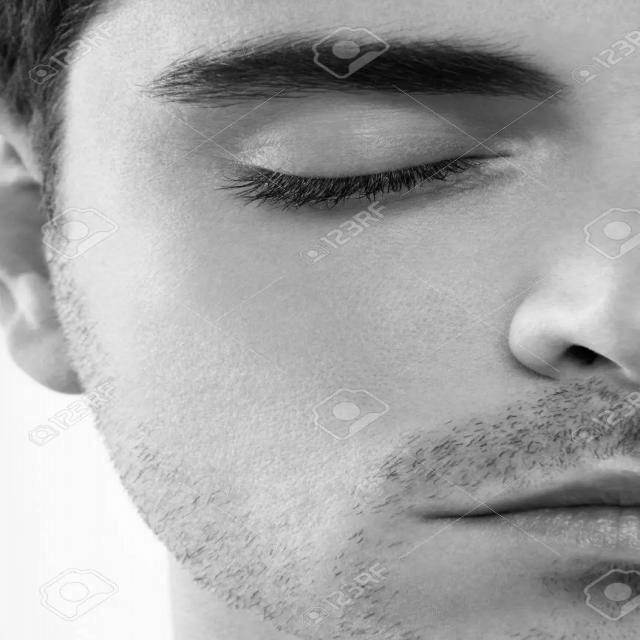real: (0, 0, 640, 640), (134, 30, 609, 232)
